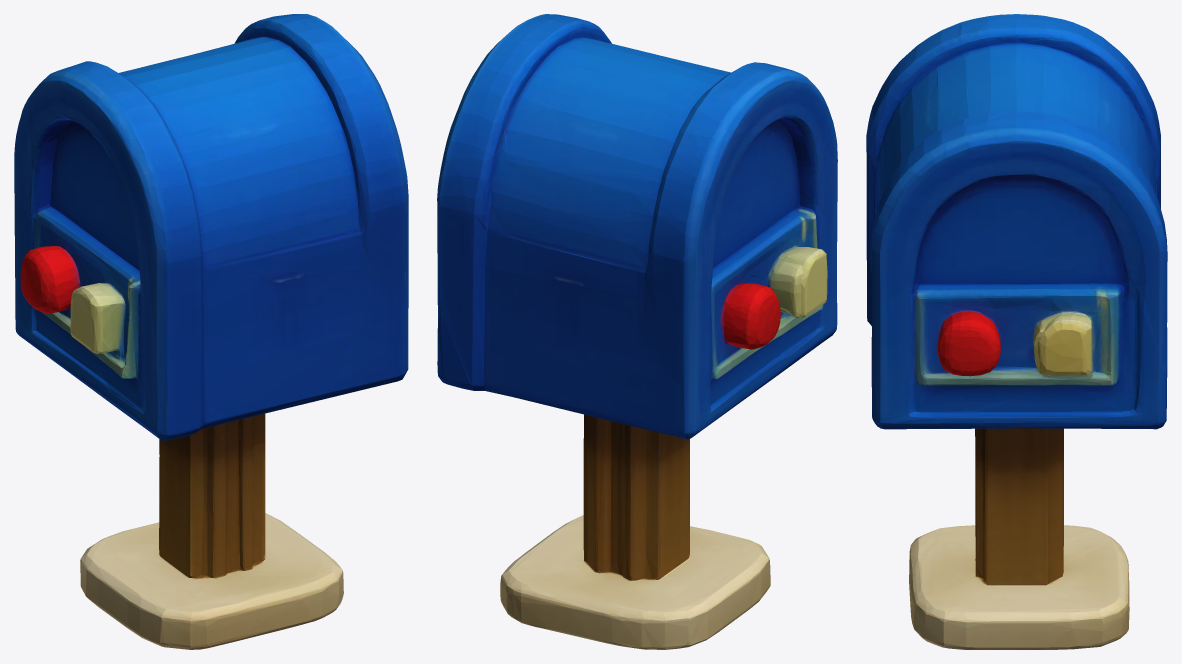
The model's file is mailbox.glb.
The picture shows the model from 3 angles, left to right: view 1: azimuth 30°, elevation 25°; view 2: azimuth 150°, elevation 25°; view 3: azimuth 270°, elevation 25°; orthographic projection.
Parts seen in each view (by area): view 1: geometry_0; view 2: geometry_0; view 3: geometry_0.
Part boxes in pixels (x1,y1,x2,y2): geometry_0: [14, 14, 408, 649]; geometry_0: [437, 14, 837, 649]; geometry_0: [866, 14, 1167, 649].
Bounding box in the file's own units: 0.6105 × 1 × 0.5113.
1 material, 1 textured.
